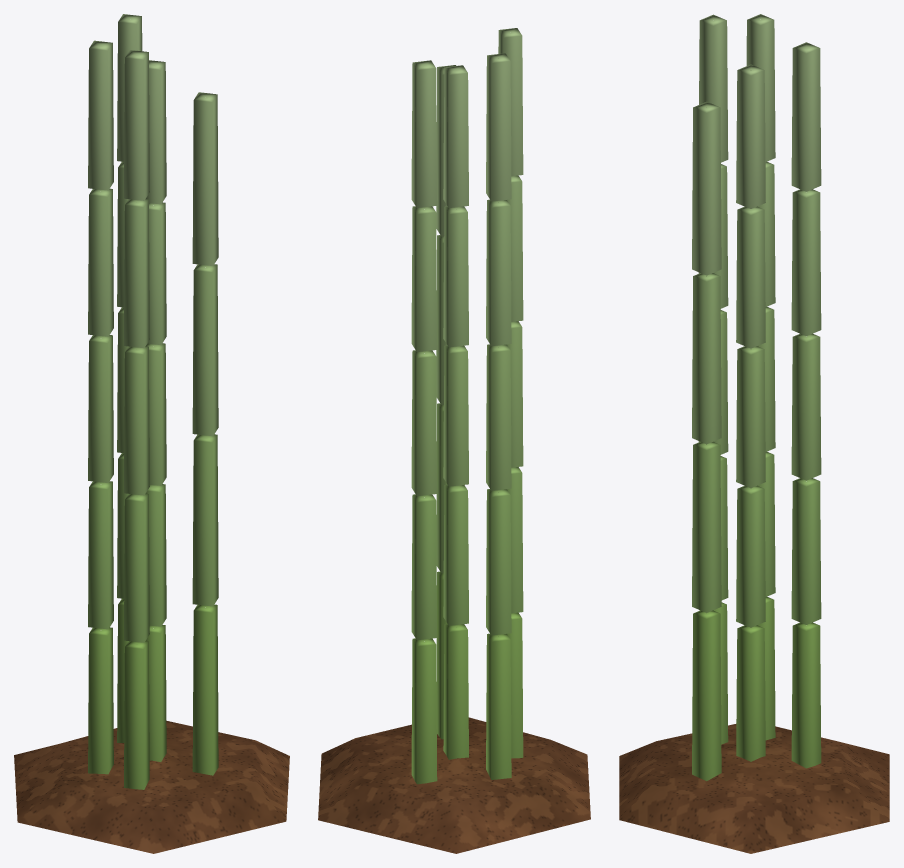
Rendered from plant-bamboo-4-far.glb.
3 renders of one model, left to right at view 1: azimuth 30°, elevation 25°; view 2: azimuth 150°, elevation 25°; view 3: azimuth 270°, elevation 25°, orthographic.
Visible parts, largest first — view 1: plant-bamboo-4-far; view 2: plant-bamboo-4-far; view 3: plant-bamboo-4-far.
Part boxes in pixels (x1,y1,x2,y2): plant-bamboo-4-far: [14, 14, 289, 853]; plant-bamboo-4-far: [318, 28, 590, 853]; plant-bamboo-4-far: [619, 14, 889, 853].
Bounding box in the file's own units: 0.84 × 2.23 × 0.7275.
3 materials, 1 textured.
